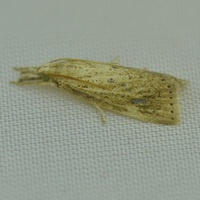insect: (11, 58, 187, 124)
